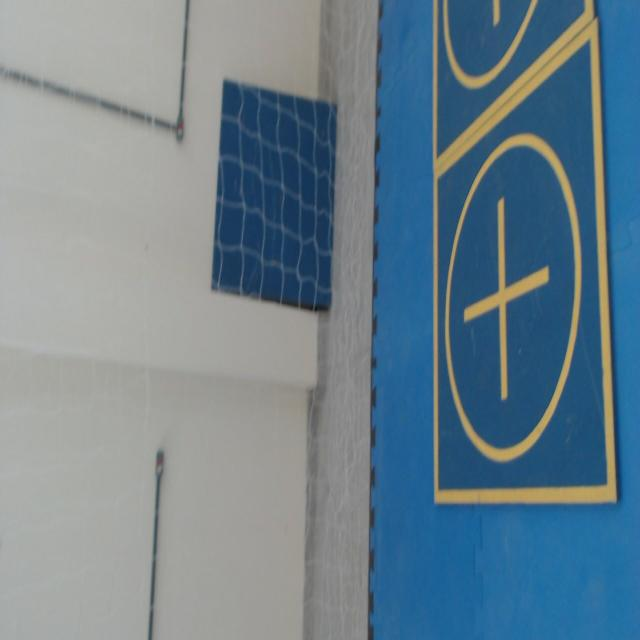base_pouso: (432, 17, 619, 507), (434, 0, 595, 165)
